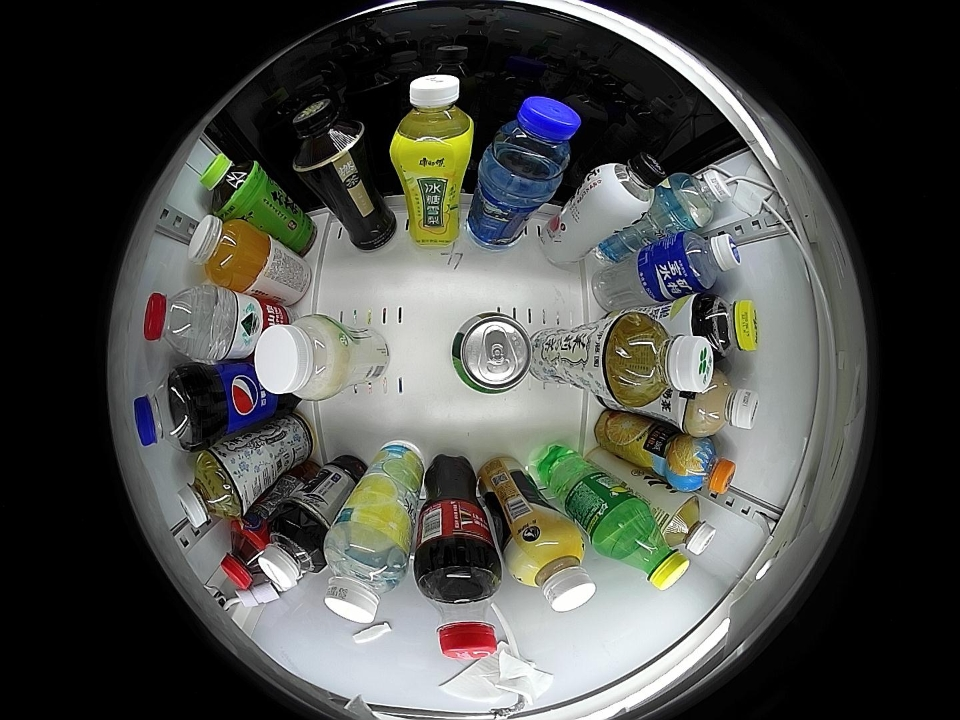asamu: (510, 529, 595, 613)
baicha: (601, 310, 715, 407), (177, 449, 246, 528)
baishikele-2: (133, 369, 203, 451)
baokuangli: (672, 231, 742, 293)
binghongcha: (218, 522, 270, 590)
bingtangxueli: (390, 73, 475, 164)
chacui: (692, 294, 759, 359)
guolicheng: (669, 436, 737, 496)
kele-b: (417, 557, 503, 661)
maidong: (486, 94, 582, 189)
nongfushanquan: (144, 286, 215, 359)
qinningshui: (323, 529, 408, 626), (665, 167, 734, 229)
quchenshixiangcao: (451, 312, 532, 394)
rancha-1: (289, 94, 368, 176)
rancha-2: (657, 494, 716, 558)
weic: (187, 215, 270, 291)
wuhounaicha: (686, 370, 760, 436)
wulongcha: (257, 513, 326, 592)
xuebi-b: (604, 510, 689, 591)
yitengyuan: (199, 150, 264, 217)
yousuanru: (255, 314, 349, 401)
yuanqishui: (588, 149, 668, 222)
